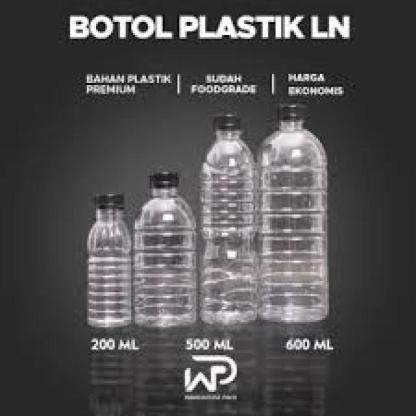Plastic Bottle: (257, 101, 329, 322), (198, 112, 258, 324), (132, 170, 198, 326), (85, 191, 131, 327)
